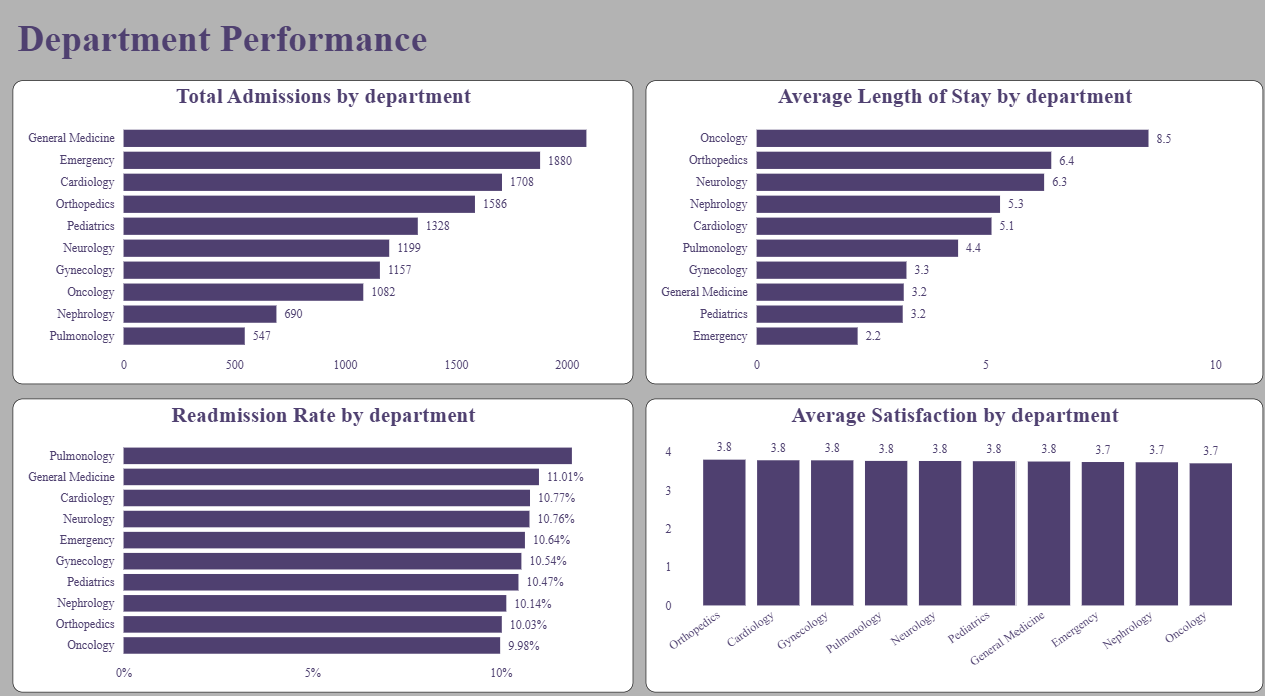

This screenshot's page, from the dashboard's own definition file:
{"tool":"powerbi","page":{"name":"Department Performance","canvas":[1280,720],"ordinal":3},"visuals":[{"type":"clusteredBarChart","fields":{"Category":["hospital_admissions_cleaned.department"],"Y":["hospital_admissions_cleaned.Total Admissions"]},"box":[19.2,92.2,620.3,303.4],"z":0},{"type":"clusteredBarChart","fields":{"Category":["hospital_admissions_cleaned.department"],"Y":["hospital_admissions_cleaned.Readmission Rate"]},"box":[19.2,409.1,620.3,293.8],"z":1},{"type":"clusteredBarChart","fields":{"Category":["hospital_admissions_cleaned.department"],"Y":["hospital_admissions_cleaned.Average Length of Stay"]},"box":[651,92.2,616.5,303.4],"z":2},{"type":"clusteredColumnChart","fields":{"Y":["hospital_admissions_cleaned.Average Satisfaction"],"Category":["hospital_admissions_cleaned.department"]},"box":[651,409.1,616.5,293.8],"z":3},{"type":"textbox","box":[19.2,23,445.5,53.8],"z":4}]}

Visuals, with their boxes in screenshot pixels (x1, y1, x2, y2), scaled from the page's 1280x720 canvas onto the 1265x696 screenshot:
clusteredBarChart - hospital_admissions_cleaned.department x hospital_admissions_cleaned.Total Admissions: rect(19, 89, 632, 382)
clusteredBarChart - hospital_admissions_cleaned.department x hospital_admissions_cleaned.Readmission Rate: rect(19, 395, 632, 679)
clusteredBarChart - hospital_admissions_cleaned.department x hospital_admissions_cleaned.Average Length of Stay: rect(643, 89, 1253, 382)
clusteredColumnChart - hospital_admissions_cleaned.Average Satisfaction x hospital_admissions_cleaned.department: rect(643, 395, 1253, 679)
textbox: rect(19, 22, 459, 74)
